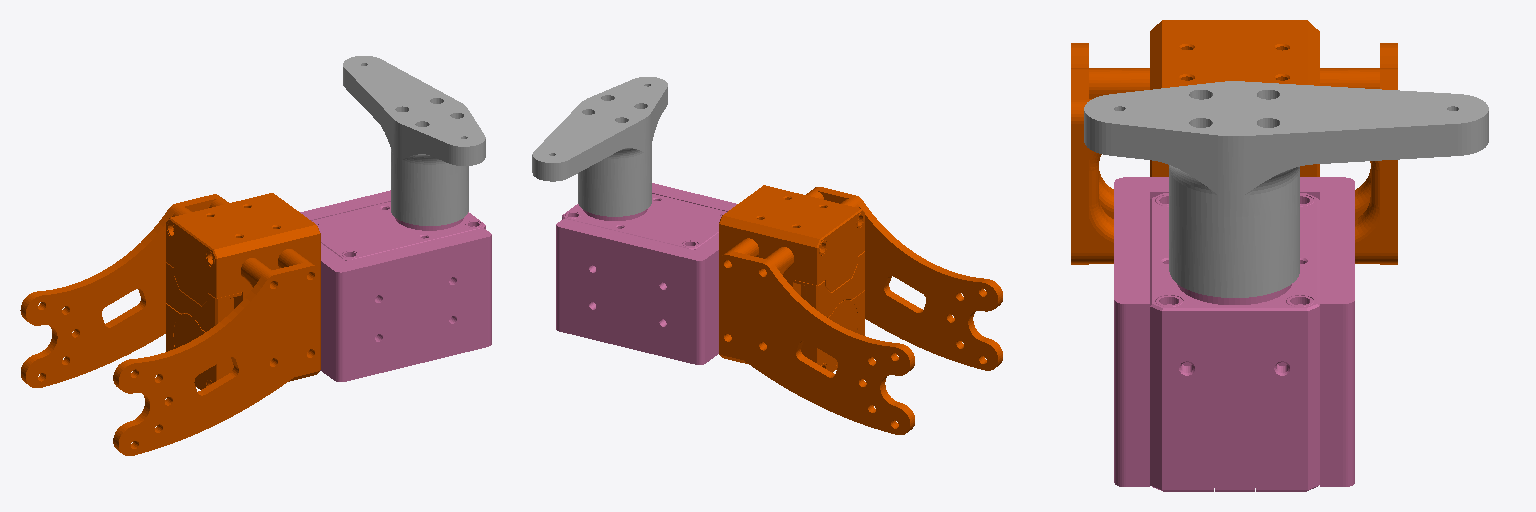
robot.urdf — vx300s:
<?xml version="1.0" ?>
<!-- =================================================================================== -->
<!-- |    This document was autogenerated by xacro from vx300s_7dof.urdf.xacro         | -->
<!-- |    EDITING THIS FILE BY HAND IS NOT RECOMMENDED                                 | -->
<!-- =================================================================================== -->
<robot name="vx300s">
  <material name="interbotix_black">
    <texture filename="package://vx300s_7dof_description/meshes/interbotix_black.png"/>
  </material>
  <link name="vx300s_7dof/base_link">
    <visual>
      <origin rpy="0 0 1.5707963267948966" xyz="0 0 0"/>
      <geometry>
        <mesh filename="package://vx300s_7dof_description/meshes/vx300s_1_base.stl" scale="0.001 0.001 0.001"/>
      </geometry>
      <material name="interbotix_black"/>
    </visual>
    <collision>
      <origin rpy="0 0 1.5707963267948966" xyz="0 0 0"/>
      <geometry>
        <mesh filename="package://vx300s_7dof_description/meshes/vx300s_1_base.stl" scale="0.001 0.001 0.001"/>
      </geometry>
    </collision>
    <inertial>
      <origin rpy="0 0 1.5707963267948966" xyz="-0.0534774000 -0.0005625750 0.0205961000"/>
      <mass value="0.969034"/>
      <inertia ixx="0.0060240000" ixy="0.0000471300" ixz="0.0000038510" iyy="0.0017000000" iyz="-0.0000841500" izz="0.0071620000"/>
    </inertial>
  </link>
  <joint name="waist" type="revolute">
    <axis xyz="0 0 1"/>
    <limit effort="10" lower="-3.141582653589793" upper="3.141582653589793" velocity="3.141592653589793"/>
    <origin rpy="0 0 0" xyz="0 0 0.079"/>
    <parent link="vx300s_7dof/base_link"/>
    <child link="vx300s_7dof/shoulder_link"/>
    <dynamics friction="0.1"/>
  </joint>
  <transmission name="trans_waist">
    <type>transmission_interface/SimpleTransmission</type>
    <joint name="waist">
      <hardwareInterface>hardware_interface/EffortJointInterface</hardwareInterface>
    </joint>
    <actuator name="waist_motor">
      <mechanicalReduction>1</mechanicalReduction>
    </actuator>
  </transmission>
  <link name="vx300s_7dof/shoulder_link">
    <visual>
      <origin rpy="0 0 1.5707963267948966" xyz="0 0 -0.003"/>
      <geometry>
        <mesh filename="package://vx300s_7dof_description/meshes/vx300s_2_shoulder.stl" scale="0.001 0.001 0.001"/>
      </geometry>
      <material name="interbotix_black"/>
    </visual>
    <collision>
      <origin rpy="0 0 1.5707963267948966" xyz="0 0 -0.003"/>
      <geometry>
        <mesh filename="package://vx300s_7dof_description/meshes/vx300s_2_shoulder.stl" scale="0.001 0.001 0.001"/>
      </geometry>
    </collision>
    <inertial>
      <origin rpy="0 0 1.5707963267948966" xyz="0.0002592330 -0.0000033552 0.0116129000"/>
      <mass value="0.798614"/>
      <inertia ixx="0.0009388000" ixy="-0.0000000010" ixz="-0.0000000191" iyy="0.0011380000" iyz="0.0000059568" izz="0.0012010000"/>
    </inertial>
  </link>
  <joint name="shoulder" type="revolute">
    <axis xyz="0 1 0"/>
    <limit effort="20" lower="-1.8500490071139892" upper="1.2566370614359172" velocity="3.141592653589793"/>
    <origin rpy="0 0 0" xyz="0 0 0.04805"/>
    <parent link="vx300s_7dof/shoulder_link"/>
    <child link="vx300s_7dof/upper_arm_link"/>
    <dynamics friction="0.1"/>
  </joint>
  <transmission name="trans_shoulder">
    <type>transmission_interface/SimpleTransmission</type>
    <joint name="shoulder">
      <hardwareInterface>hardware_interface/EffortJointInterface</hardwareInterface>
    </joint>
    <actuator name="shoulder_motor">
      <mechanicalReduction>1</mechanicalReduction>
    </actuator>
  </transmission>
  <link name="vx300s_7dof/upper_arm_link">
    <visual>
      <origin rpy="0 0 1.5707963267948966" xyz="0 0 0"/>
      <geometry>
        <mesh filename="package://vx300s_7dof_description/meshes/vx300s_3_upper_arm.stl" scale="0.001 0.001 0.001"/>
      </geometry>
      <material name="interbotix_black"/>
    </visual>
    <collision>
      <origin rpy="0 0 1.5707963267948966" xyz="0 0 0"/>
      <geometry>
        <mesh filename="package://vx300s_7dof_description/meshes/vx300s_3_upper_arm.stl" scale="0.001 0.001 0.001"/>
      </geometry>
    </collision>
    <inertial>
      <origin rpy="0 0 1.5707963267948966" xyz="0.0206949000 0.0000000004 0.2264590000"/>
      <mass value="0.792592"/>
      <inertia ixx="0.0089250000" ixy="0.0000000000" ixz="0.0000000000" iyy="0.0089370000" iyz="0.0012010000" izz="0.0009357000"/>
    </inertial>
  </link>
  <joint name="elbow" type="revolute">
    <axis xyz="0 1 0"/>
    <limit effort="15" lower="-1.7627825445142729" upper="1.6057029118347832" velocity="3.141592653589793"/>
    <origin rpy="0 0 0" xyz="0.05955 0 0.3"/>
    <parent link="vx300s_7dof/upper_arm_link"/>
    <child link="vx300s_7dof/upper_forearm_link"/>
    <dynamics friction="0.1"/>
  </joint>
  <transmission name="trans_elbow">
    <type>transmission_interface/SimpleTransmission</type>
    <joint name="elbow">
      <hardwareInterface>hardware_interface/EffortJointInterface</hardwareInterface>
    </joint>
    <actuator name="elbow_motor">
      <mechanicalReduction>1</mechanicalReduction>
    </actuator>
  </transmission>
  <link name="vx300s_7dof/upper_forearm_link">
    <visual>
      <origin rpy="0 0 0" xyz="0 0 0"/>
      <geometry>
        <mesh filename="package://vx300s_7dof_description/meshes/vx300s_4_upper_forearm.stl" scale="0.001 0.001 0.001"/>
      </geometry>
      <material name="interbotix_black"/>
    </visual>
    <collision>
      <origin rpy="0 0 0" xyz="0 0 0"/>
      <geometry>
        <mesh filename="package://vx300s_7dof_description/meshes/vx300s_4_upper_forearm.stl" scale="0.001 0.001 0.001"/>
      </geometry>
    </collision>
    <inertial>
      <origin rpy="0 0 0" xyz="0.105723 0 0"/>
      <mass value="0.322228"/>
      <inertia ixx="0.0001524000" ixy="-0.0000188300" ixz="-0.0000084064" iyy="0.0013420000" iyz="0.0000012564" izz="0.0014410000"/>
    </inertial>
  </link>
  <joint name="forearm_roll" type="revolute">
    <axis xyz="1 0 0"/>
    <limit effort="2" lower="-3.141582653589793" upper="3.141582653589793" velocity="3.141592653589793"/>
    <origin rpy="0 0 0" xyz="0.2 0 0"/>
    <parent link="vx300s_7dof/upper_forearm_link"/>
    <child link="vx300s_7dof/lower_forearm_link"/>
    <dynamics friction="0.1"/>
  </joint>
  <transmission name="trans_forearm_roll">
    <type>transmission_interface/SimpleTransmission</type>
    <joint name="forearm_roll">
      <hardwareInterface>hardware_interface/EffortJointInterface</hardwareInterface>
    </joint>
    <actuator name="forearm_roll_motor">
      <mechanicalReduction>1</mechanicalReduction>
    </actuator>
  </transmission>
  <link name="vx300s_7dof/lower_forearm_link">
    <visual>
      <origin rpy="3.141592653589793 0 0" xyz="0 0 0"/>
      <geometry>
        <mesh filename="package://vx300s_7dof_description/meshes/vx300s_5_lower_forearm.stl" scale="0.001 0.001 0.001"/>
      </geometry>
      <material name="interbotix_black"/>
    </visual>
    <collision>
      <origin rpy="3.141592653589793 0 0" xyz="0 0 0"/>
      <geometry>
        <mesh filename="package://vx300s_7dof_description/meshes/vx300s_5_lower_forearm.stl" scale="0.001 0.001 0.001"/>
      </geometry>
    </collision>
    <inertial>
      <origin rpy="3.141592653589793 0 0" xyz="0.0513477000 0.0068046200 0"/>
      <mass value="0.414823"/>
      <inertia ixx="0.0001753000" ixy="-0.0000852800" ixz="0" iyy="0.0005269000" iyz="0" izz="0.0005911000"/>
    </inertial>
  </link>
  <joint name="wrist_1_joint" type="revolute">
    <axis xyz="1 0 0"/>
    <limit effort="5" lower="-1.8675022996339325" upper="2.234021442552742" velocity="3.141592653589793"/>
    <origin rpy="0 0 1.5707963267948966" xyz="0.1 0 0"/>
    <parent link="vx300s_7dof/lower_forearm_link"/>
    <child link="vx300s_7dof/wrist_1_link"/>
    <dynamics friction="0.1"/>
  </joint>
  <transmission name="trans_wrist_angle">
    <type>transmission_interface/SimpleTransmission</type>
    <joint name="wrist_angle">
      <hardwareInterface>hardware_interface/EffortJointInterface</hardwareInterface>
    </joint>
    <actuator name="wrist_angle_motor">
      <mechanicalReduction>1</mechanicalReduction>
    </actuator>
  </transmission>
  <link name="vx300s_7dof/wrist_1_link">
    <visual>
      <origin rpy="0 0 0" xyz="0 0 0"/>
      <geometry>
        <mesh filename="package://vx300s_7dof_description/meshes/vx300s_7dof_wrist_1.stl" scale="0.001 0.001 0.001"/>
      </geometry>
      <material name="interbotix_black"/>
    </visual>
    <collision>
      <origin rpy="0 0 0" xyz="0 0 0"/>
      <geometry>
        <mesh filename="package://vx300s_7dof_description/meshes/vx300s_7dof_wrist_1.stl" scale="0.001 0.001 0.001"/>
      </geometry>
    </collision>
    <inertial>
      <origin rpy="0 0 0" xyz="-0.00016056389157290035 -0.04783644576268217 0.011114667243825252"/>
      <mass value="0.11539500000052595"/>
      <inertia ixx="4.197327507711e-05" ixy="-0.0" ixz="-0.0" iyy="4.197327507711e-05" iyz="3.22871346747e-06" izz="4.520198854458e-05"/>
    </inertial>
  </link>
  <link name="vx300s_7dof/wrist_2_link">
    <inertial>
      <origin rpy="0 0 0" xyz="4.3609031555899395e-07 -0.02330839051358337 0.0056858689583885414"/>
      <mass value="0.09999999999793989"/>
      <inertia ixx="3.40818535776e-05" ixy="-0.0" ixz="0.0" iyy="2.9821621880399998e-05" iyz="-3.5501930809999996e-07" izz="4.43774135125e-05"/>
    </inertial>
    <visual>
      <origin rpy="0 0 0" xyz="0.000161 0.07 0.0"/>
      <geometry>
        <mesh filename="package://vx300s_7dof_description/meshes/vx300s_7dof_wrist_2.stl" scale="0.001 0.001 0.001"/>
      </geometry>
      <material name="interbotix_black"/>
    </visual>
    <collision>
      <origin rpy="0 0 0" xyz="0.000161 0.07 0.0"/>
      <geometry>
        <mesh filename="package://vx300s_7dof_description/meshes/vx300s_7dof_wrist_2.stl" scale="0.001 0.001 0.001"/>
      </geometry>
    </collision>
  </link>
  <joint name="wrist_2_joint" type="revolute">
    <axis xyz="0 -1 0"/>
    <limit effort="5" lower="-3.141582653589793" upper="3.141582653589793" velocity="3.141592653589793"/>
    <origin rpy="0 0 0" xyz="-0.000161 -0.07 0.0"/>
    <parent link="vx300s_7dof/wrist_1_link"/>
    <child link="vx300s_7dof/wrist_2_link"/>
    <dynamics friction="0.1"/>
  </joint>
  <link name="vx300s_7dof/wrist_3_link">
    <inertial>
      <origin rpy="0 0 0" xyz="0.006991739511968901 0.00431837142418863 -0.01147389409196783"/>
      <mass value="0.019999999999826944"/>
      <inertia ixx="1.3688306707e-06" ixy="-2.7376613414e-07" ixz="1.3688306707e-07" iyy="8.62363322541e-06" iyz="0.0" izz="8.76051629248e-06"/>
    </inertial>
    <visual>
      <origin rpy="0 0 0" xyz="0.000161 0.11125 0.01325"/>
      <geometry>
        <mesh filename="package://vx300s_7dof_description/meshes/vx300s_7dof_wrist_3.stl" scale="0.001 0.001 0.001"/>
      </geometry>
      <material name="interbotix_black"/>
    </visual>
    <collision>
      <origin rpy="0 0 0" xyz="0.000161 0.11125 0.01325"/>
      <geometry>
        <mesh filename="package://vx300s_7dof_description/meshes/vx300s_7dof_wrist_3.stl" scale="0.001 0.001 0.001"/>
      </geometry>
    </collision>
  </link>
  <joint name="wrist_3_joint" type="revolute">
    <origin rpy="0 3.141592653589793 3.141592653589793" xyz="0.0 -0.04125 0.02475"/>
    <limit effort="5" lower="-3.141582653589793" upper="3.141582653589793" velocity="3.141592653589793"/>
    <parent link="vx300s_7dof/wrist_2_link"/>
    <child link="vx300s_7dof/wrist_3_link"/>
    <axis xyz="-0.0 -0.0 1.0"/>
    <dynamics friction="0.1"/>
  </joint>
  <link name="vx300s_7dof/camera_attach_link"/>
  <joint name="camera_attach_joint" type="fixed">
    <origin rpy="3.141592653589793 0 1.5707963267948966" xyz="0 0.0011925388 -0.03"/>
    <parent link="vx300s_7dof/wrist_3_link"/>
    <child link="vx300s_7dof/camera_attach_link"/>
  </joint>
  <material name="zedm_mat">
    <color rgba="0.3 0.3 0.3 1.0"/>
  </material>
  <!-- Camera mounting point (the threaded screw hole in the bottom) -->
  <link name="zed_base_link">
    <collision>
      <origin rpy="0 0 0" xyz="0 0 0"/>
      <geometry>
        <box size="0.03 0.03 0.03"/>
      </geometry>
    </collision>
  </link>
  <joint name="zed_base_joint" type="fixed">
    <parent link="vx300s_7dof/camera_attach_link"/>
    <child link="zed_base_link"/>
    <origin rpy="0 0 0" xyz="0 0 0"/>
  </joint>
  <!-- Camera Center -->
  <link name="zed_camera_center">
    <visual>
      <origin rpy="0 0 0" xyz="0.0 0 0.0"/>
      <geometry>
        <mesh filename="package://vx300s_7dof_description/meshes/zedm.stl"/>
      </geometry>
      <material name="zedm_mat"/>
    </visual>
    <collision>
      <geometry>
        <mesh filename="package://vx300s_7dof_description/meshes/zedm.stl"/>
      </geometry>
    </collision>
  </link>
  <joint name="zed_camera_center_joint" type="fixed">
    <parent link="zed_base_link"/>
    <child link="zed_camera_center"/>
    <origin rpy="0 0.0 0" xyz="0 0 0.01325"/>
  </joint>
  <!-- Left Camera -->
  <link name="zed_left_camera_frame">
    <collision>
      <origin rpy="0 0 0" xyz="0 0 0"/>
      <geometry>
        <box size="0.03 0.03 0.03"/>
      </geometry>
    </collision>
  </link>
  <joint name="zed_left_camera_joint" type="fixed">
    <parent link="zed_camera_center"/>
    <child link="zed_left_camera_frame"/>
    <origin rpy="0 0 0" xyz="0.0 0.03 0"/>
  </joint>
  <link name="zed_left_camera_optical_frame">
    <collision>
      <origin rpy="0 0 0" xyz="0 0 0"/>
      <geometry>
        <box size="0.03 0.03 0.03"/>
      </geometry>
    </collision>
  </link>
  <joint name="zed_left_camera_optical_joint" type="fixed">
    <origin rpy="-1.5707963267948966 0.0 -1.5707963267948966" xyz="0 0 0"/>
    <parent link="zed_left_camera_frame"/>
    <child link="zed_left_camera_optical_frame"/>
  </joint>
  <!-- Right Camera -->
  <link name="zed_right_camera_frame">
    <collision>
      <origin rpy="0 0 0" xyz="0 0 0"/>
      <geometry>
        <box size="0.03 0.03 0.03"/>
      </geometry>
    </collision>
  </link>
  <joint name="zed_right_camera_joint" type="fixed">
    <parent link="zed_camera_center"/>
    <child link="zed_right_camera_frame"/>
    <origin rpy="0 0 0" xyz="0.0 -0.03 0"/>
  </joint>
  <link name="zed_right_camera_optical_frame">
    <collision>
      <origin rpy="0 0 0" xyz="0 0 0"/>
      <geometry>
        <box size="0.03 0.03 0.03"/>
      </geometry>
    </collision>
  </link>
  <joint name="zed_right_camera_optical_joint" type="fixed">
    <origin rpy="-1.5707963267948966 0.0 -1.5707963267948966" xyz="0 0 0"/>
    <parent link="zed_right_camera_frame"/>
    <child link="zed_right_camera_optical_frame"/>
  </joint>
</robot>

--- Facts derived from the render (not from the file) ---
Views: 3 orthographic renders of the robot side by side, from view 1: azimuth 30°, elevation 25°; view 2: azimuth 150°, elevation 25°; view 3: azimuth 270°, elevation 25°.
Robot: vx300s — 15 links, 14 joints (7 revolute, 7 fixed); root link vx300s_7dof/base_link; default pose: all joints at 0.
Links seen in each view (by area): view 1: vx300s_7dof/wrist_1_link, vx300s_7dof/wrist_2_link, vx300s_7dof/wrist_3_link; view 2: vx300s_7dof/wrist_1_link, vx300s_7dof/wrist_2_link, vx300s_7dof/wrist_3_link; view 3: vx300s_7dof/wrist_2_link, vx300s_7dof/wrist_3_link, vx300s_7dof/wrist_1_link.
Boxes of the visible links, <box> form: vx300s_7dof/wrist_1_link: <box>20,193,320,455</box>; vx300s_7dof/wrist_2_link: <box>300,190,491,381</box>; vx300s_7dof/wrist_3_link: <box>343,56,485,225</box>; vx300s_7dof/wrist_1_link: <box>719,185,1002,434</box>; vx300s_7dof/wrist_2_link: <box>556,183,736,364</box>; vx300s_7dof/wrist_3_link: <box>532,77,667,216</box>; vx300s_7dof/wrist_2_link: <box>1114,177,1354,491</box>; vx300s_7dof/wrist_3_link: <box>1084,81,1488,297</box>; vx300s_7dof/wrist_1_link: <box>1071,20,1397,264</box>.
Bounding box of the posed robot: 0.1278 × 0.0702 × 0.069 m (x, y, z).
3 mesh visuals loaded from 9 distinct referenced files (3 binary STL); not drawn: 6 (reference not matched to a file when rendering).